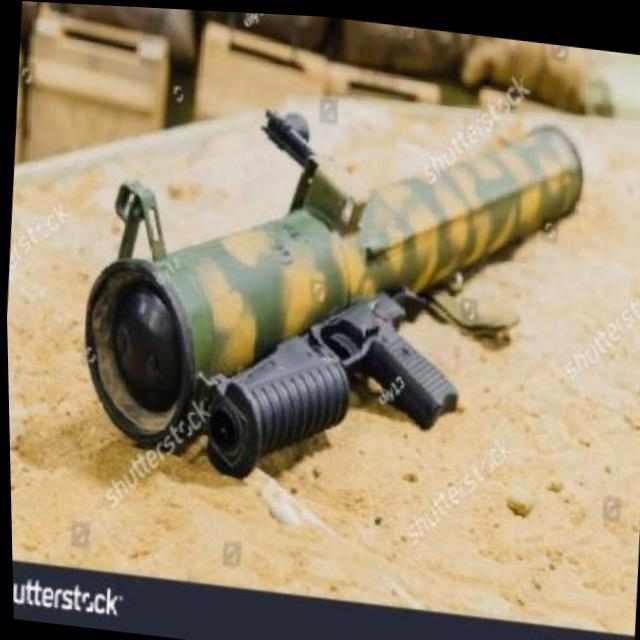weapon: (67, 62, 592, 513)
